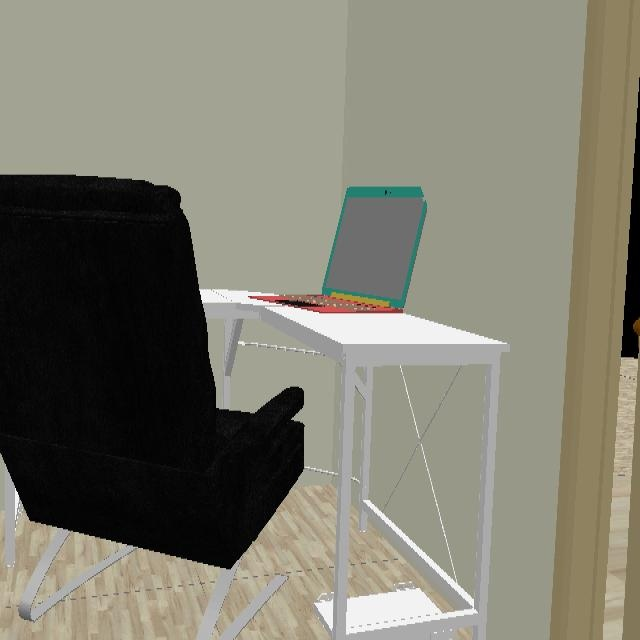chair: (0, 175, 306, 571)
laptop: (253, 187, 429, 315)
table: (204, 292, 510, 640)
